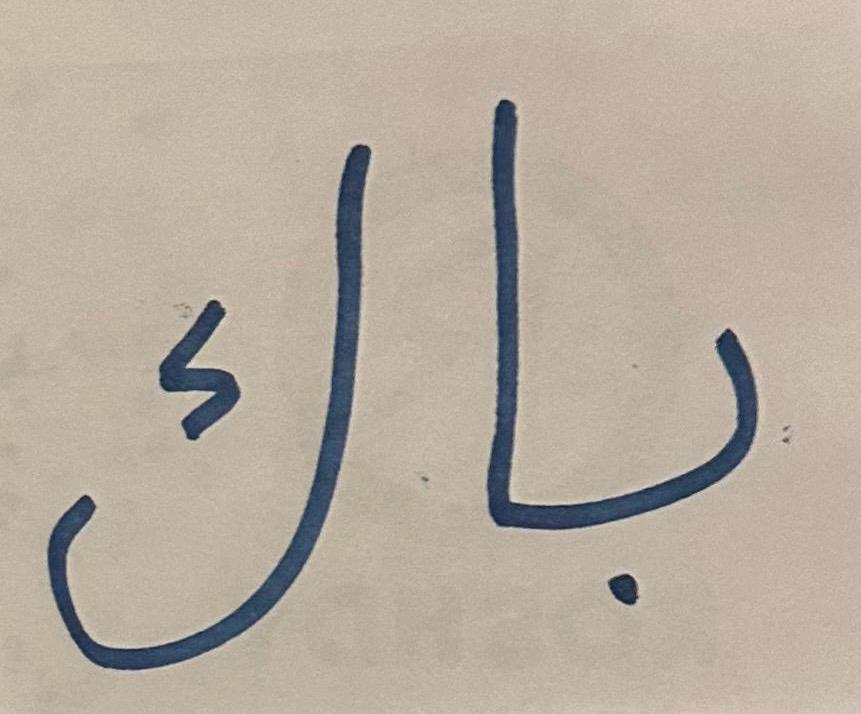alef: (434, 52, 552, 622)
beh: (556, 220, 778, 672)
khah: (10, 52, 431, 697)
